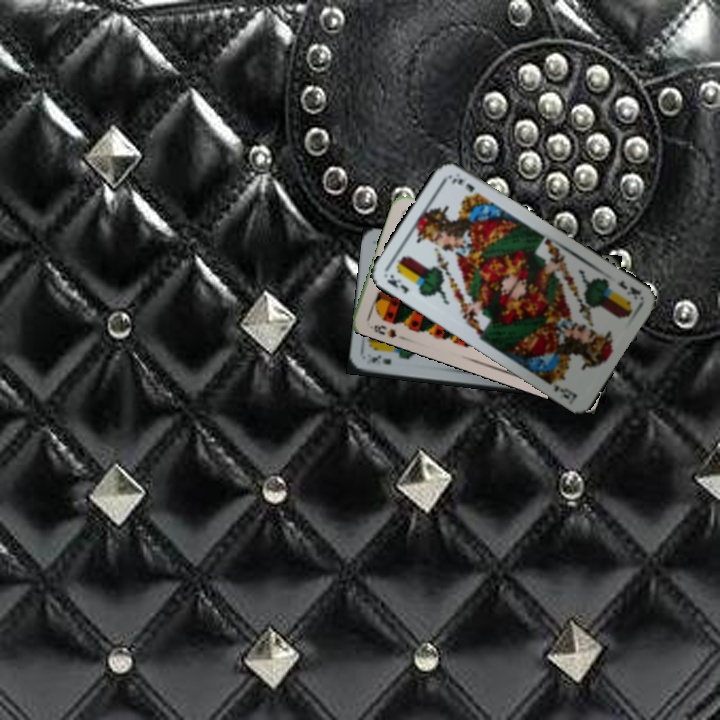EK: (613, 276, 643, 302), (383, 270, 412, 296), (367, 352, 394, 369)
S8: (366, 321, 400, 340)
